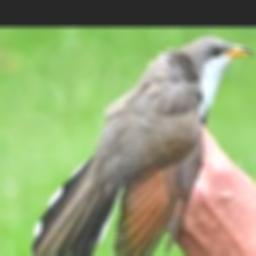Cuckoo: (31, 35, 253, 256)
